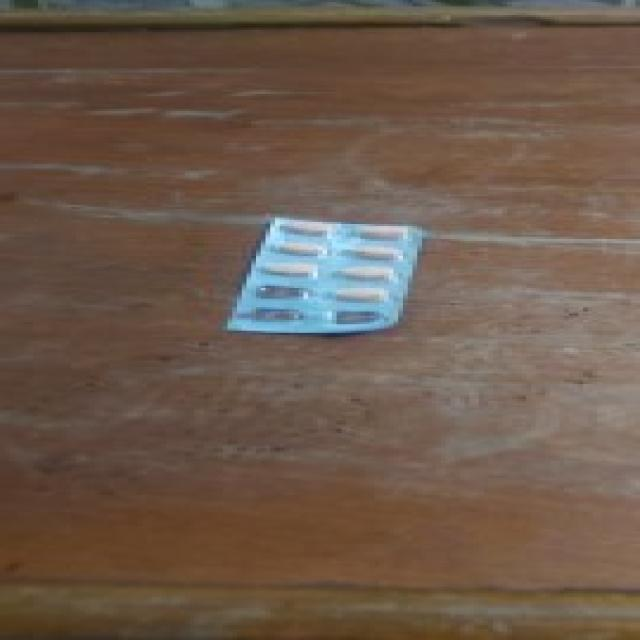Cacat: (223, 216, 434, 334)
Kemasan: (247, 282, 318, 329), (332, 306, 396, 329)
